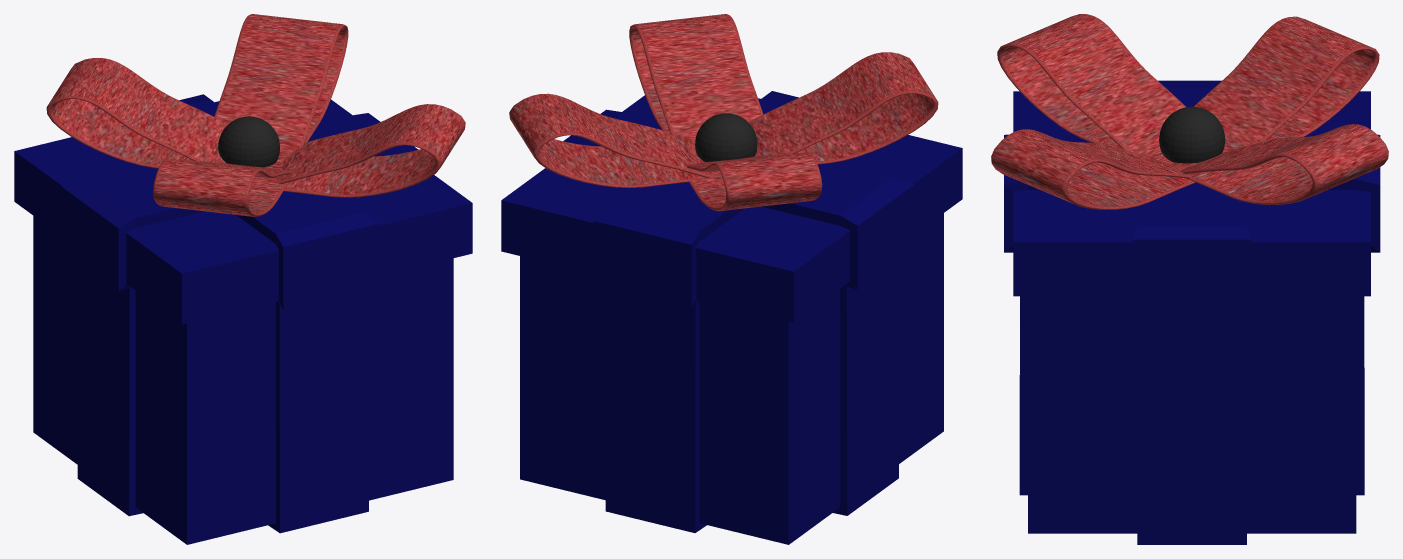
The model's file is gift.fbx.
3 renders of one model, left to right at view 1: azimuth 30°, elevation 25°; view 2: azimuth 150°, elevation 25°; view 3: azimuth 270°, elevation 25°, orthographic. The views are drawn at different scales.
Parts seen in each view (by area): view 1: Cube, BézierCircle, BézierCircle.001, BézierCircle.002, BézierCircle.003, Sphere; view 2: Cube, BézierCircle.003, BézierCircle.002, BézierCircle, BézierCircle.001, Sphere; view 3: Cube, BézierCircle.003, BézierCircle.001, BézierCircle, BézierCircle.002, Sphere.
Boxes of the visible parts, box(x1,y1,x2,y2) form: Cube: box(14, 94, 472, 544); BézierCircle: box(214, 14, 348, 162); BézierCircle.001: box(46, 58, 227, 168); BézierCircle.002: box(276, 104, 465, 197); BézierCircle.003: box(153, 158, 291, 216); Sphere: box(218, 116, 279, 167); Cube: box(501, 91, 962, 544); BézierCircle.003: box(748, 52, 938, 164); BézierCircle.002: box(629, 14, 763, 140); BézierCircle: box(509, 93, 714, 187); BézierCircle.001: box(687, 152, 822, 211); Sphere: box(695, 113, 757, 161); Cube: box(1004, 80, 1380, 544); BézierCircle.003: box(997, 14, 1186, 163); BézierCircle.001: box(1194, 16, 1379, 152); BézierCircle: box(1169, 124, 1388, 204); BézierCircle.002: box(991, 129, 1195, 209); Sphere: box(1159, 106, 1225, 163).
Size of the model in its own units: 237 by 264 by 242.
3 materials, 1 textured.
